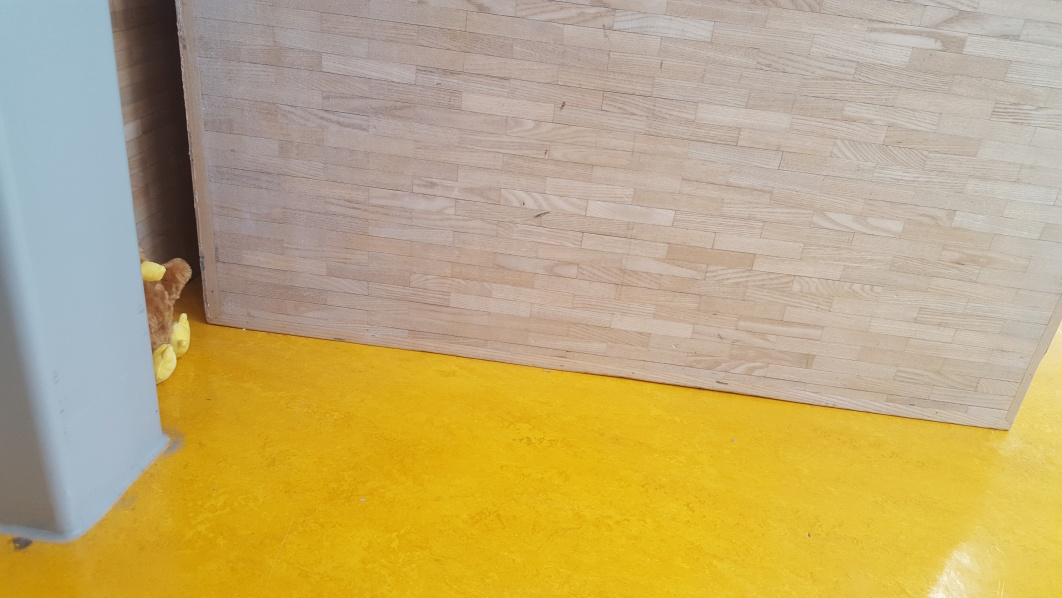chicken: (141, 251, 195, 388)
